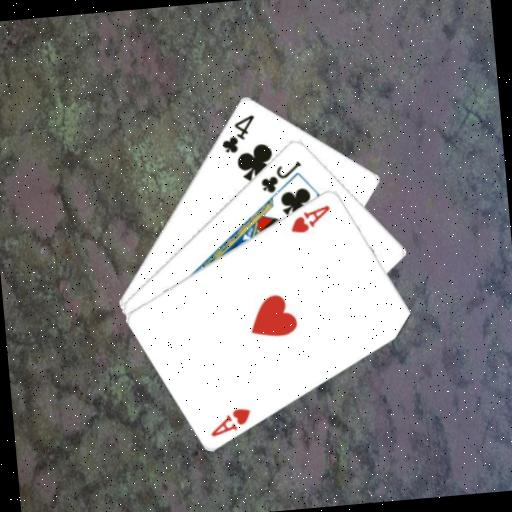4C: (215, 111, 259, 156)
AH: (205, 404, 254, 439), (286, 201, 334, 235)
JC: (256, 157, 306, 196)
